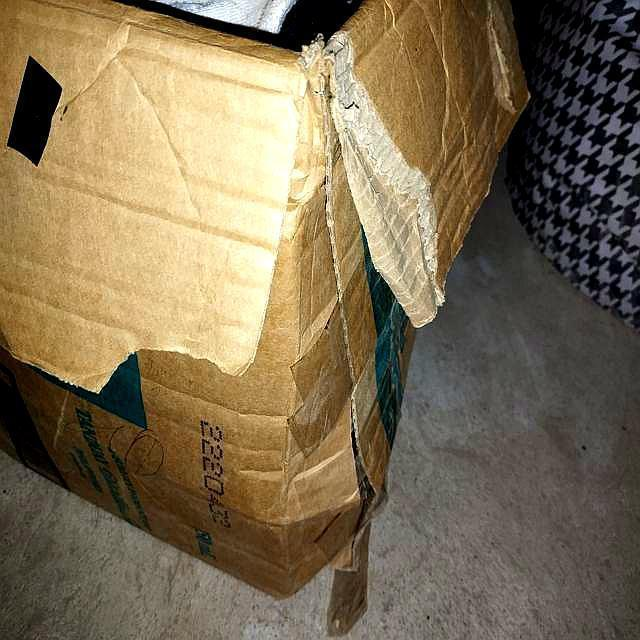Biodegradable: (1, 1, 529, 601)
